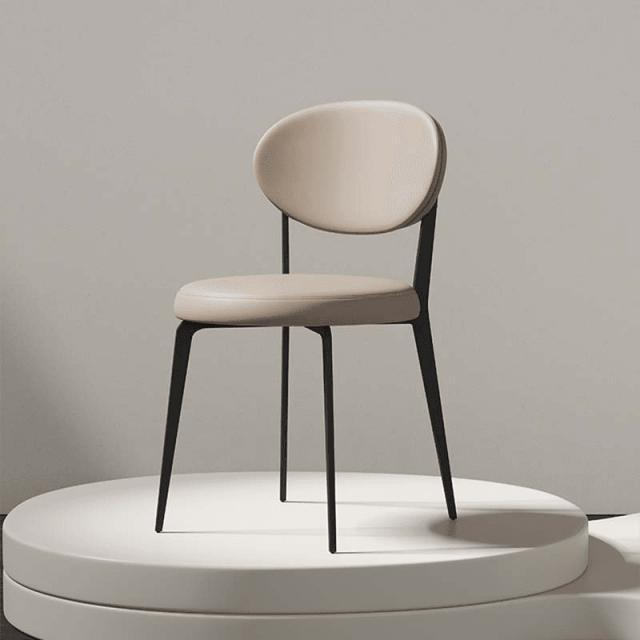chair: (148, 96, 462, 555), (169, 106, 453, 320)
